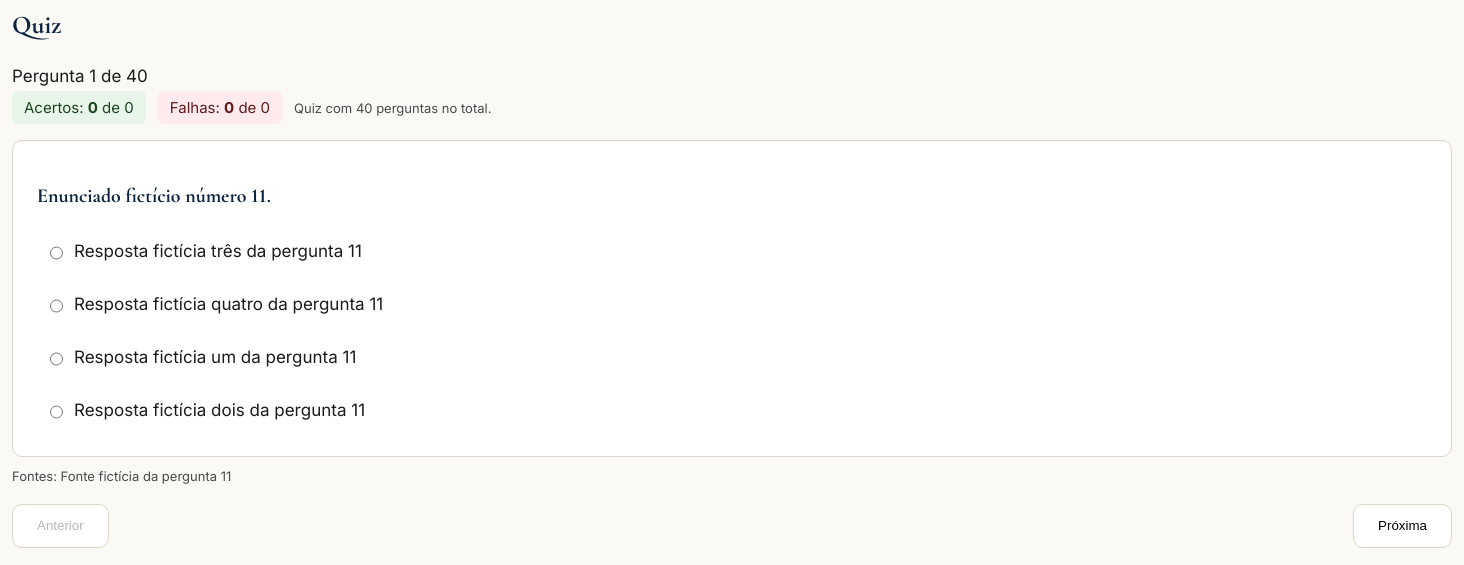
Test: QuizJuri: motor das páginas de estudo, com as 40 perguntas › avança com Próxima
This screenshot has width=1464, height=565.
What coordinates should you click on to do the following:
click the button "Próxima"
I would click on:
 (1403, 526)
Its box is [1353,504,1452,548].
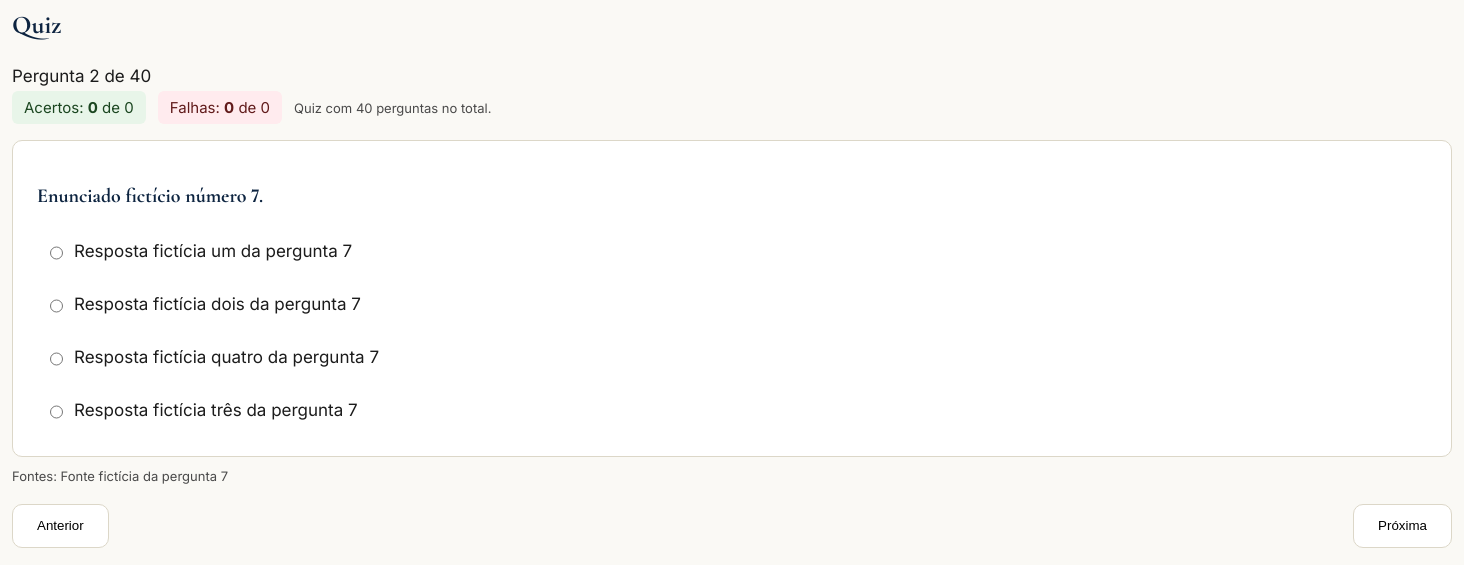
Expected: the text "Pergunta 2 de 40" is shown, [12,66,151,86]
